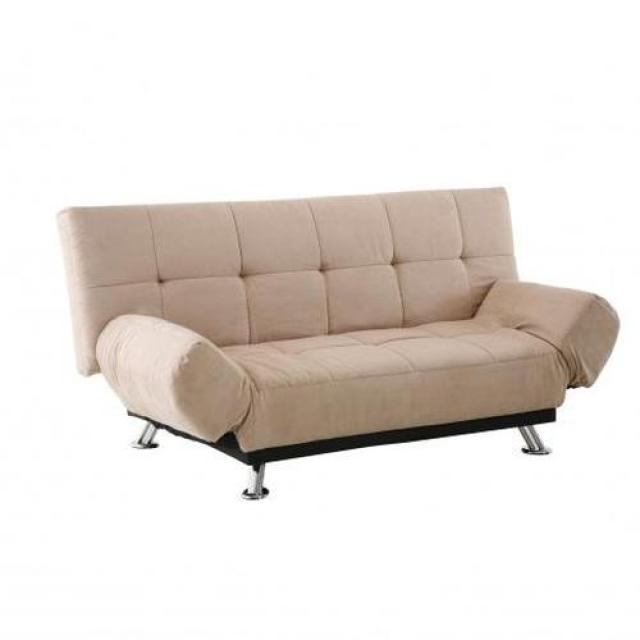sofa: (55, 188, 623, 500)
